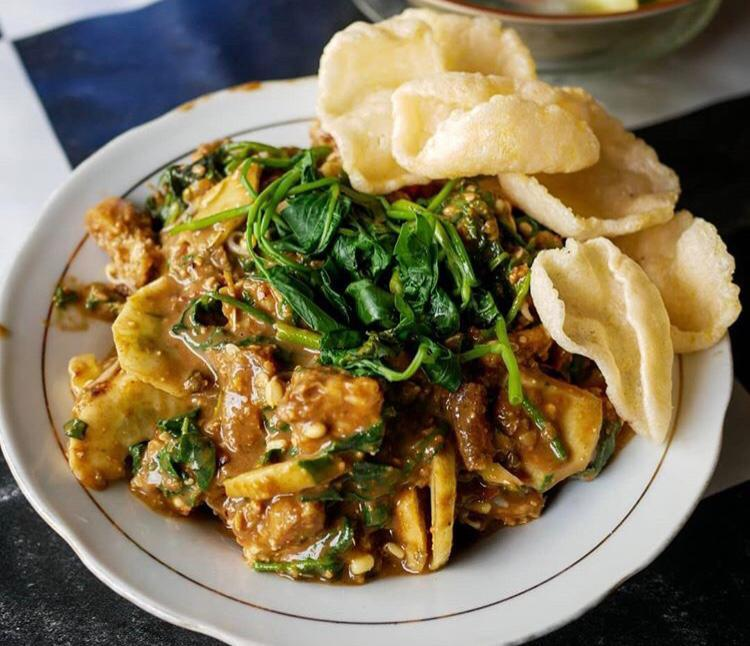rujak_cingur: (65, 9, 741, 584)
